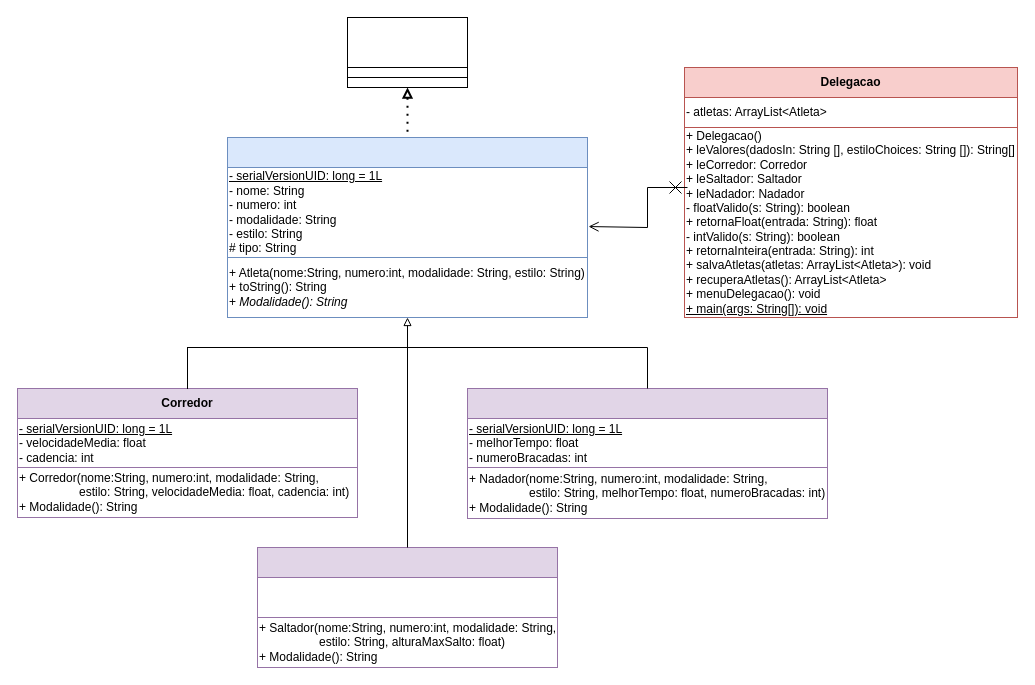
Some shapes in this 1035 by 685 pixel diagram are drawn without their labels. Each missing label, with the centre of its shape:
"- serialVersionUID: long = 1L - alturaMaxSalto: float" goes at [407,597].
"<<interface>> Serializable" goes at [407,47].
"Atleta" goes at [407,152].
"Nadador" goes at [647,403].
"Saltador" goes at [407,562].
